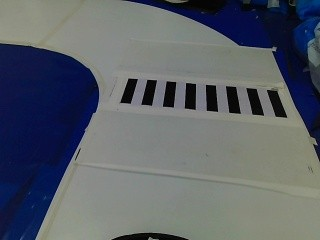crosswalk: (106, 70, 289, 121)
